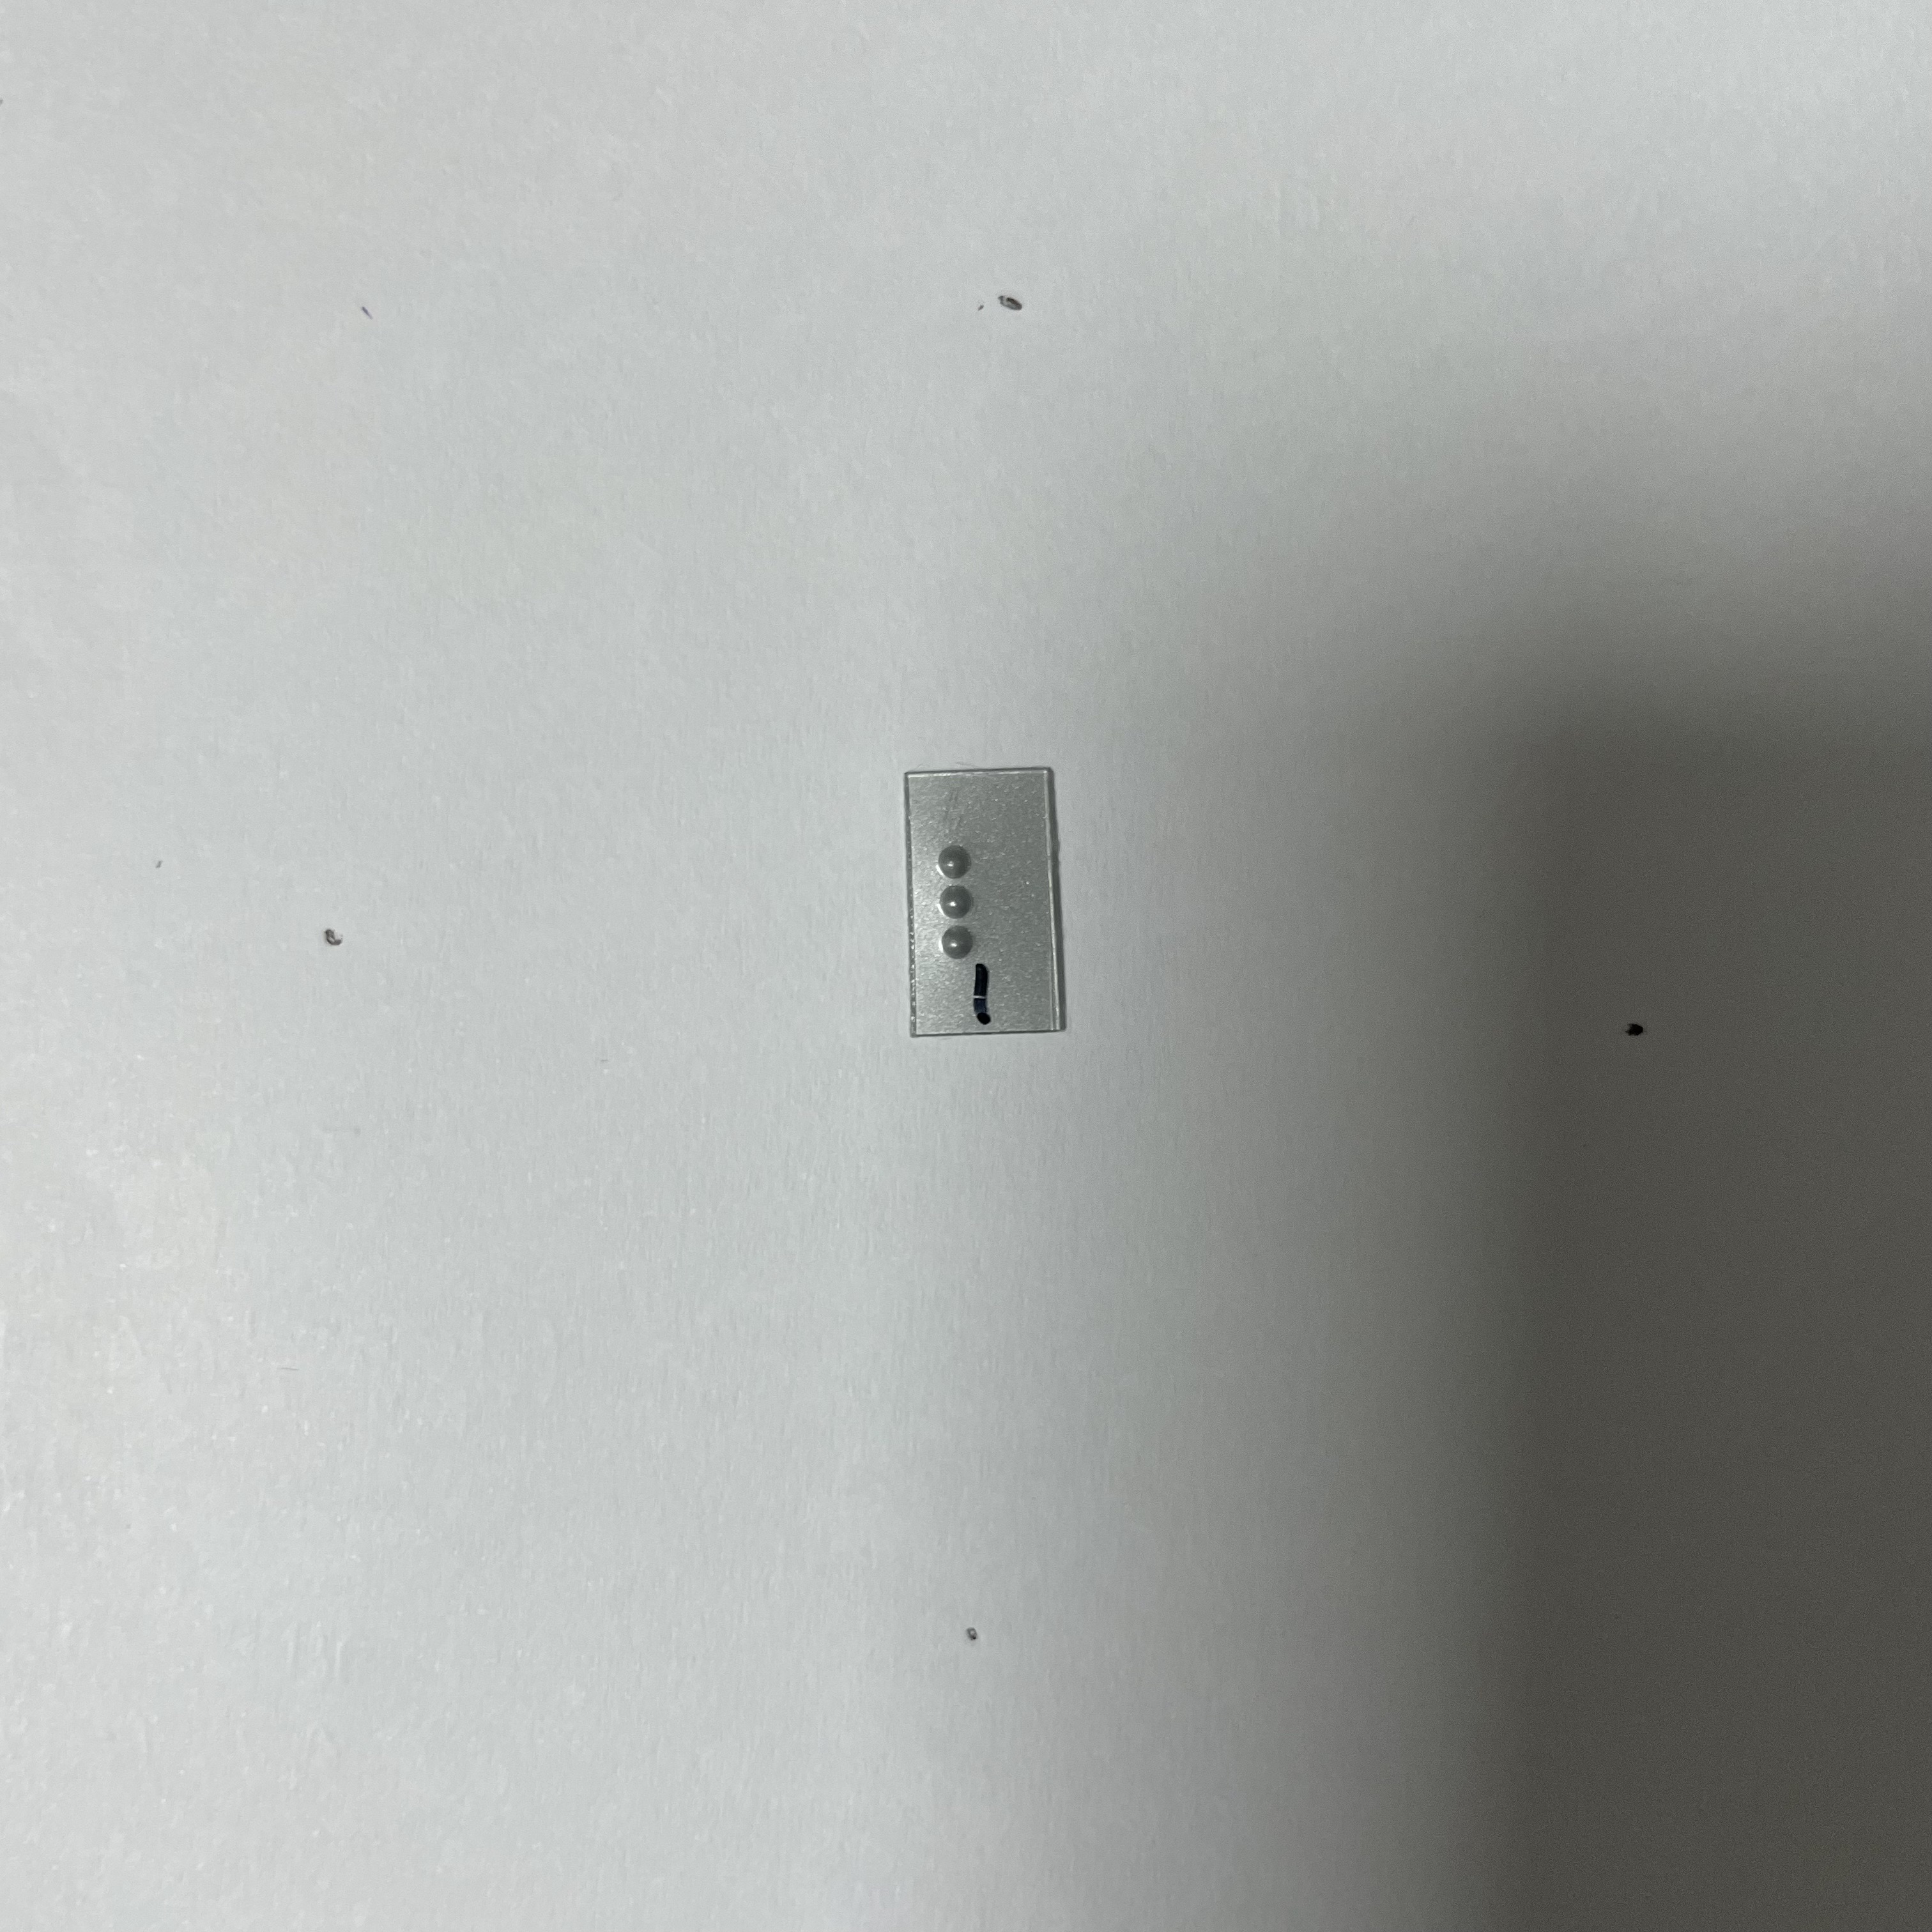l: (928, 836, 1039, 963)
